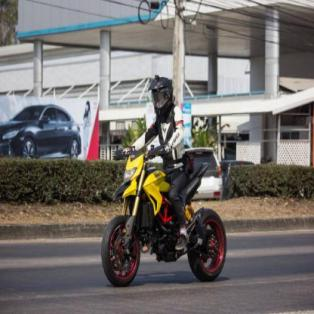Motocicleta: (101, 151, 228, 286)
